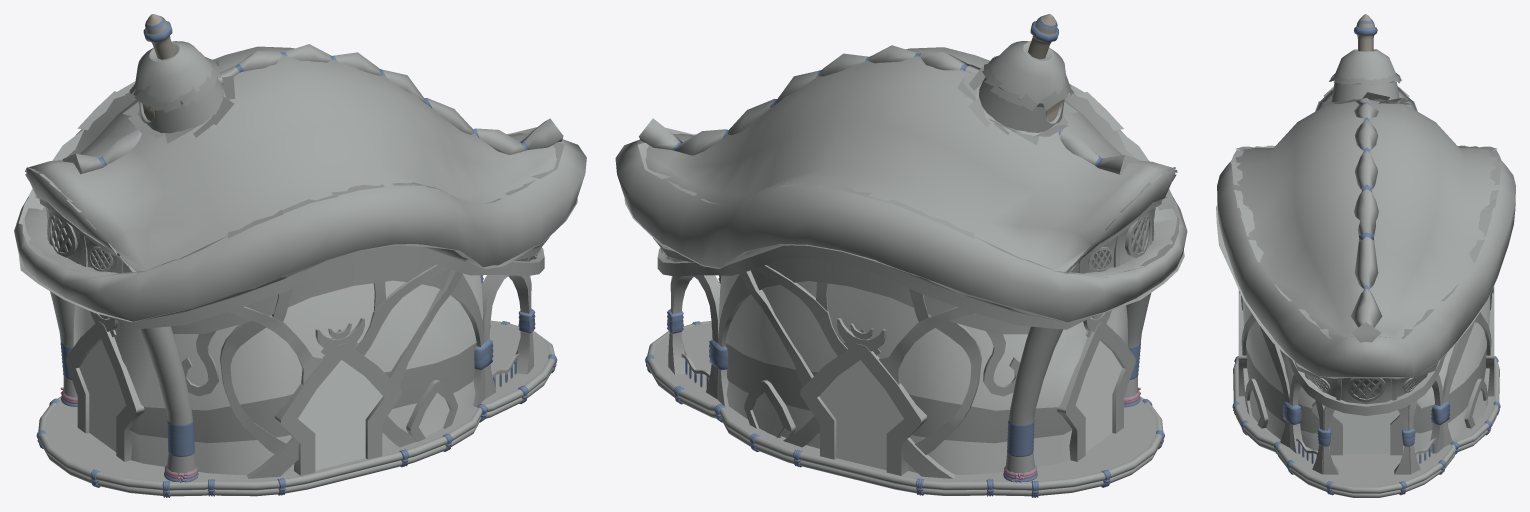
3 views of the same model, side by side, from view 1: azimuth 30°, elevation 25°; view 2: azimuth 150°, elevation 25°; view 3: azimuth 270°, elevation 25° (orthographic). The views are drawn at different scales.
Parts seen in each view (by area): view 1: G:\FFXIV-MapTools\exports\y6f2\bg\ex5\02_ykt_y6\fld\y6f2\bgp (×12); view 2: G:\FFXIV-MapTools\exports\y6f2\bg\ex5\02_ykt_y6\fld\y6f2\bgp (×12); view 3: G:\FFXIV-MapTools\exports\y6f2\bg\ex5\02_ykt_y6\fld\y6f2\bgp (×11).
Part boxes in pixels (box(x1,y1,x2,y2)): G:\FFXIV-MapTools\exports\y6f2\bg\ex5\02_ykt_y6\fld\y6f2\bgp (×12): box(14, 14, 586, 497); G:\FFXIV-MapTools\exports\y6f2\bg\ex5\02_ykt_y6\fld\y6f2\bgp (×12): box(615, 14, 1187, 497); G:\FFXIV-MapTools\exports\y6f2\bg\ex5\02_ykt_y6\fld\y6f2\bgp (×11): box(1216, 14, 1515, 497).
Size of the model in its own units: 43.14 by 35.79 by 26.5.
